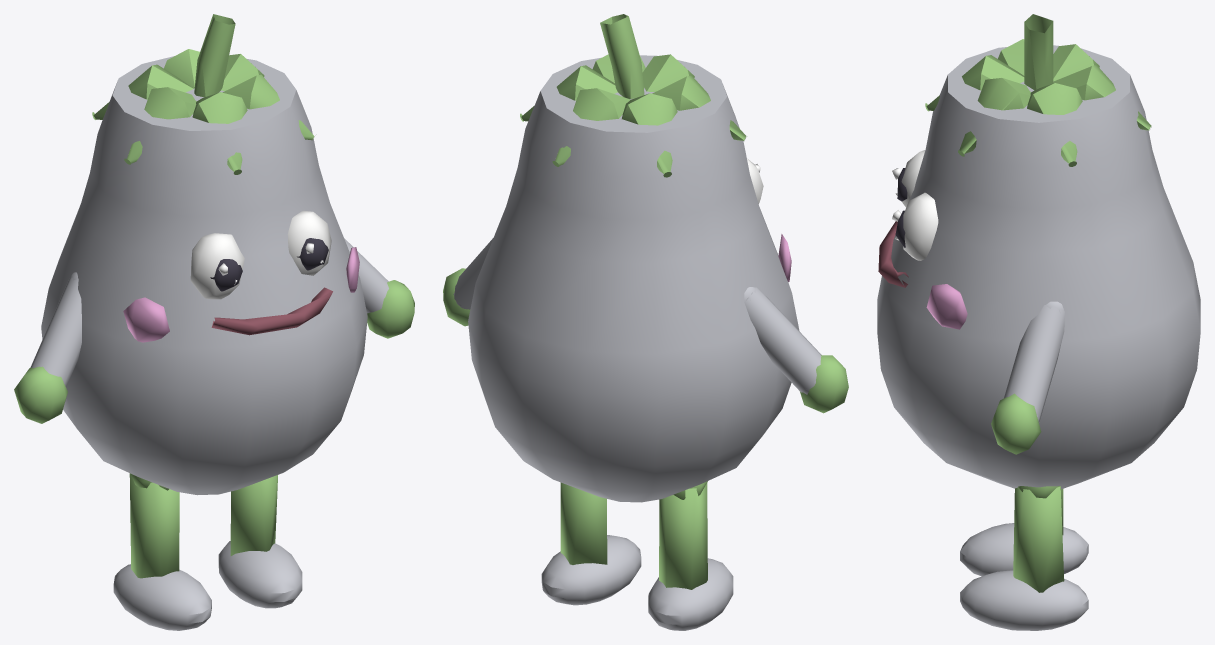
File: Eggplant.fbx
The picture shows the model from 3 angles, left to right: view 1: azimuth 30°, elevation 25°; view 2: azimuth 150°, elevation 25°; view 3: azimuth 270°, elevation 25°; orthographic projection.
Visible parts, largest first — view 1: EX_Eggplant; view 2: EX_Eggplant; view 3: EX_Eggplant.
Boxes of the visible parts, x1,y1,x2,y2 form: EX_Eggplant: (14, 14, 414, 630); EX_Eggplant: (443, 14, 848, 630); EX_Eggplant: (877, 14, 1200, 630).
Bounding box in the file's own units: 161 × 226 × 112.
